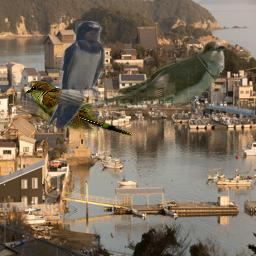Cuckoo: (58, 39, 225, 116), (24, 80, 133, 137)
Swallow: (48, 21, 105, 129)
